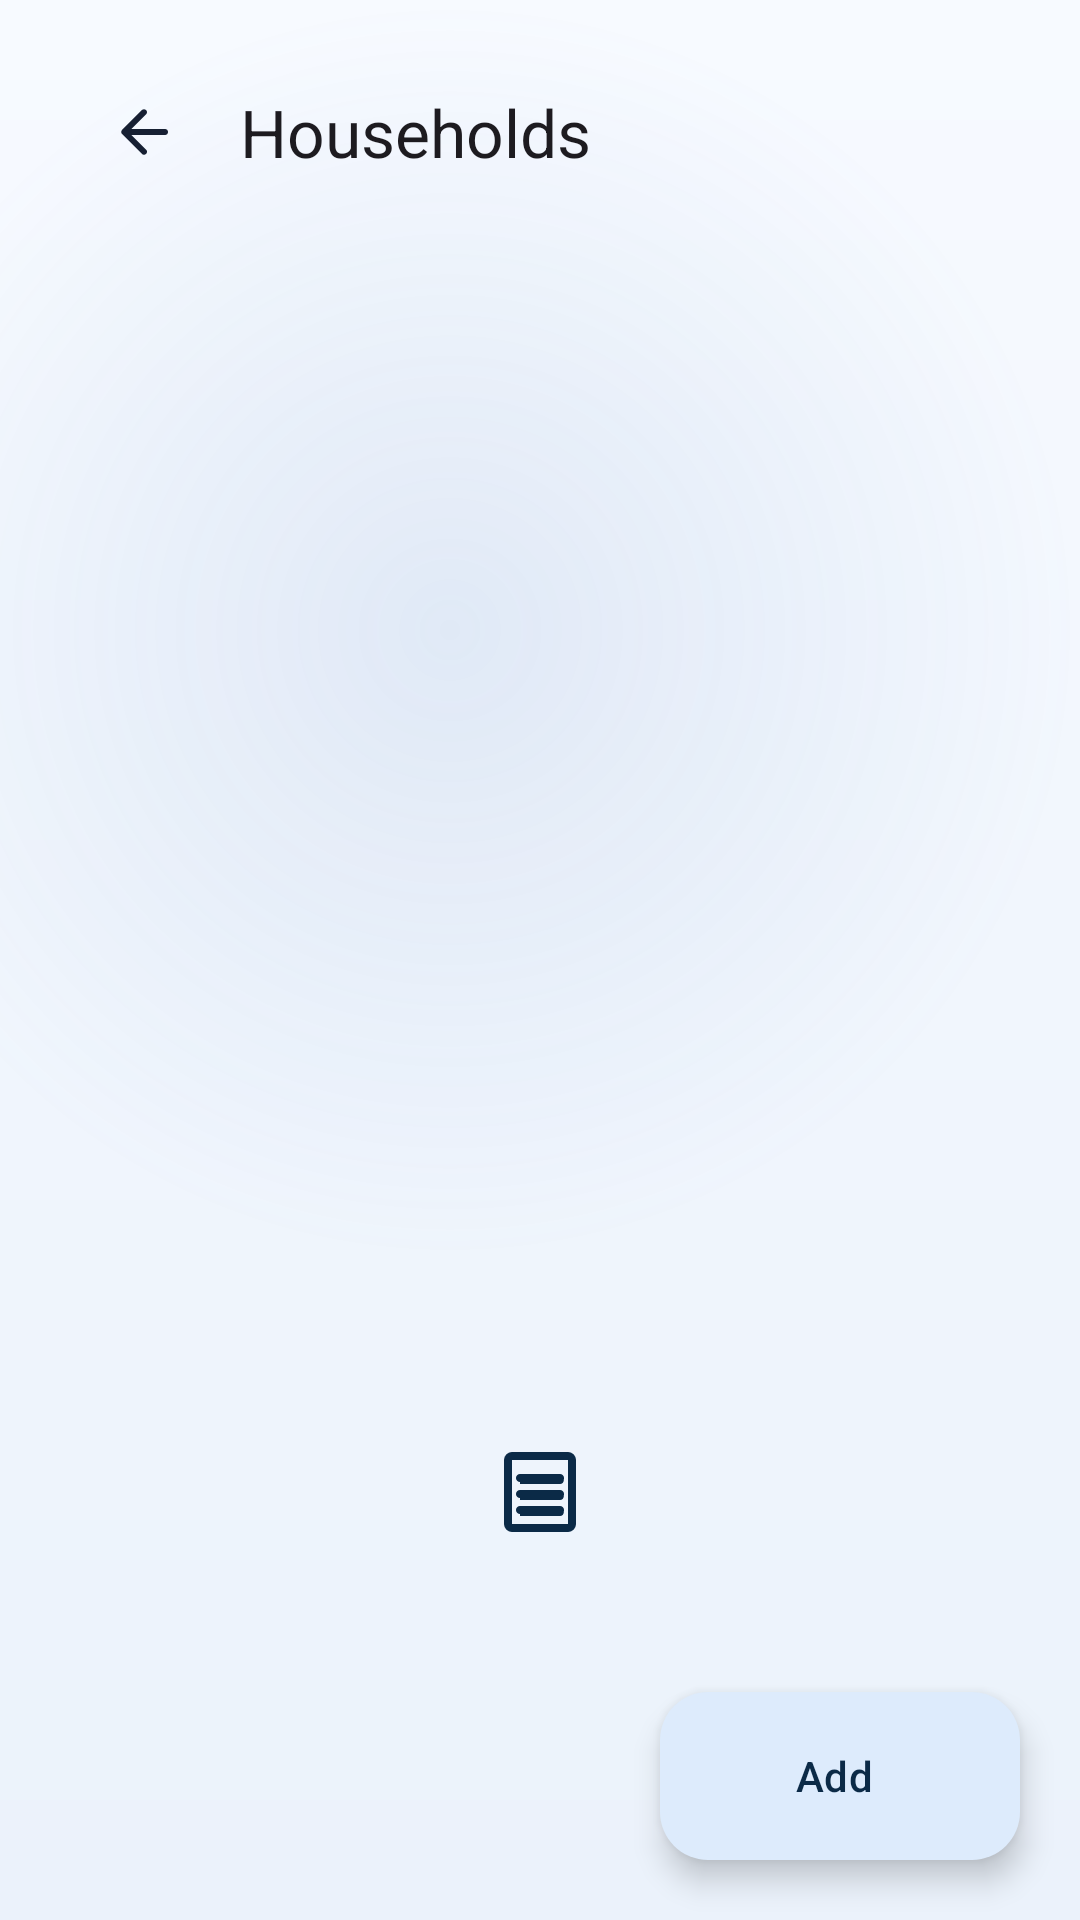

Icons on this 1080×1920 Android screen, each with its box as (x1, y1, x2, y2):
transactions: (504, 1452, 576, 1532)
